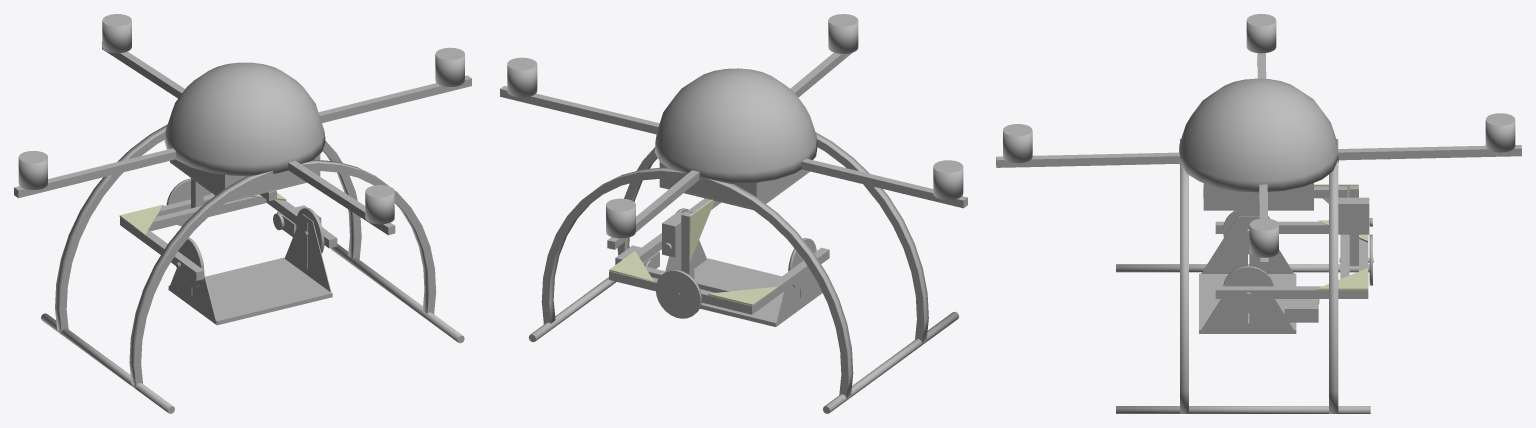
The model's file is QuadXL-noCamera.DAE.
3 views of the same model, side by side, from view 1: azimuth 30°, elevation 25°; view 2: azimuth 150°, elevation 25°; view 3: azimuth 270°, elevation 25° (orthographic).
Visible parts, largest first — view 1: Quadro_Bulle, Quadro_TrainAvant, Box007, Quadro_TrainArriere, Quadro_BrasLateral, Box008, Quadro_BlocBatterie, Quadro_TrainGche, Quadro_TrainDte, Quadro_brasLongitudinalAvant, Box010, Quadro_moteur01 (+11 smaller); view 2: Quadro_Bulle, Quadro_TrainArriere, Quadro_BrasLateral, Quadro_TrainAvant, Box007, Cylinder002, Quadro_BlocBatterie, Quadro_TrainDte, Quadro_brasLongitudinalArriere, Quadro_moteur04, Quadro_moteur01, Quadro_moteur02 (+15 smaller); view 3: Quadro_Bulle, Quadro_TrainArriere, Quadro_TrainAvant, Box010, Box008, Quadro_BlocBatterie, Quadro_brasLongitudinalAvant, Quadro_brasLongitudinalArriere, Quadro_TrainGche, Box005, Box007, Cylinder005 (+10 smaller).
Part boxes in pixels (bbox=[...]): Quadro_Bulle: bbox=[164, 62, 325, 175]; Quadro_TrainAvant: bbox=[129, 159, 436, 388]; Box007: bbox=[168, 257, 332, 325]; Quadro_TrainArriere: bbox=[55, 124, 361, 334]; Quadro_BrasLateral: bbox=[14, 75, 471, 198]; Box008: bbox=[284, 214, 331, 292]; Quadro_BlocBatterie: bbox=[170, 154, 320, 199]; Quadro_TrainGche: bbox=[331, 244, 464, 343]; Quadro_TrainDte: bbox=[41, 313, 174, 413]; Quadro_brasLongitudinalAvant: bbox=[288, 160, 395, 235]; Box010: bbox=[168, 268, 217, 324]; Quadro_moteur01: bbox=[365, 185, 394, 224]; Quadro_Bulle: bbox=[654, 68, 817, 183]; Quadro_TrainArriere: bbox=[541, 167, 853, 400]; Quadro_BrasLateral: bbox=[500, 86, 967, 208]; Quadro_TrainAvant: bbox=[617, 132, 928, 344]; Box007: bbox=[694, 258, 783, 326]; Cylinder002: bbox=[655, 269, 701, 318]; Quadro_BlocBatterie: bbox=[659, 162, 808, 207]; Quadro_TrainDte: bbox=[823, 311, 958, 413]; Quadro_brasLongitudinalArriere: bbox=[607, 170, 699, 249]; Quadro_moteur04: bbox=[507, 57, 537, 97]; Quadro_moteur01: bbox=[828, 14, 858, 53]; Quadro_moteur02: bbox=[933, 160, 963, 199]; Quadro_Bulle: bbox=[1178, 78, 1338, 192]; Quadro_TrainArriere: bbox=[1329, 139, 1338, 413]; Quadro_TrainAvant: bbox=[1180, 139, 1188, 413]; Box010: bbox=[1201, 216, 1293, 273]; Box008: bbox=[1199, 299, 1295, 333]; Quadro_BlocBatterie: bbox=[1203, 183, 1313, 208]; Quadro_brasLongitudinalAvant: bbox=[996, 152, 1179, 167]; Quadro_brasLongitudinalArriere: bbox=[1338, 145, 1521, 160]; Quadro_TrainGche: bbox=[1116, 406, 1370, 413]; Box005: bbox=[1215, 286, 1368, 298]; Box007: bbox=[1199, 273, 1296, 333]; Cylinder005: bbox=[1223, 265, 1273, 313].
Size of the model in its own units: 0.62 by 0.6197 by 0.335.
